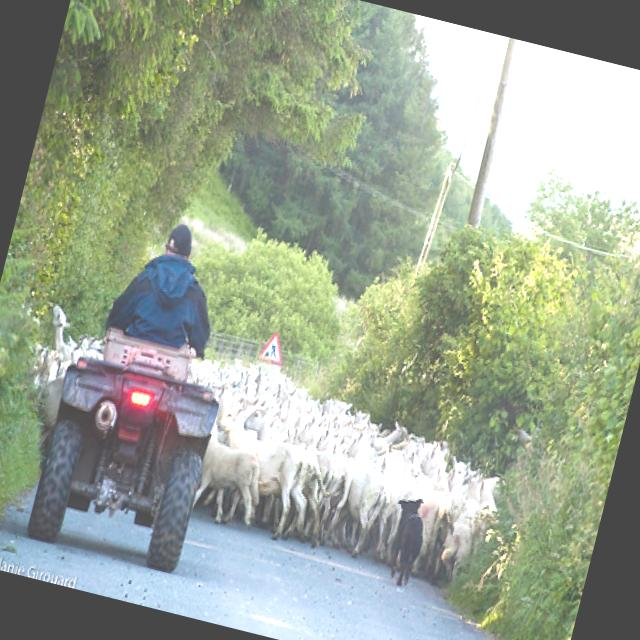Vehicle: (22, 317, 234, 575)
